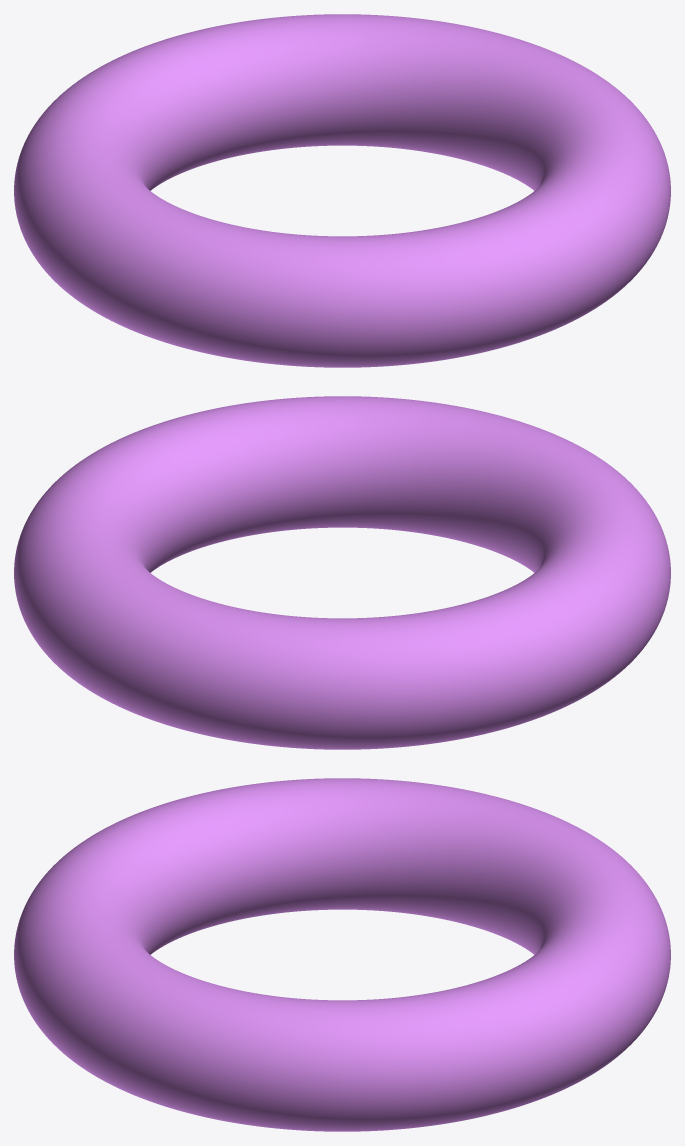
Rendered from tower.gltf.
The picture shows the model from 3 angles, top to bottom: view 1: azimuth 30°, elevation 25°; view 2: azimuth 150°, elevation 25°; view 3: azimuth 270°, elevation 25°; orthographic projection.
Parts seen in each view (by area): view 1: tower; view 2: tower; view 3: tower.
Part boxes in pixels (<box>): tower: <box>14,14,670,367</box>; tower: <box>14,396,670,749</box>; tower: <box>14,778,670,1131</box>.
Size of the model in its own units: 5.5 by 1.1 by 5.5.
